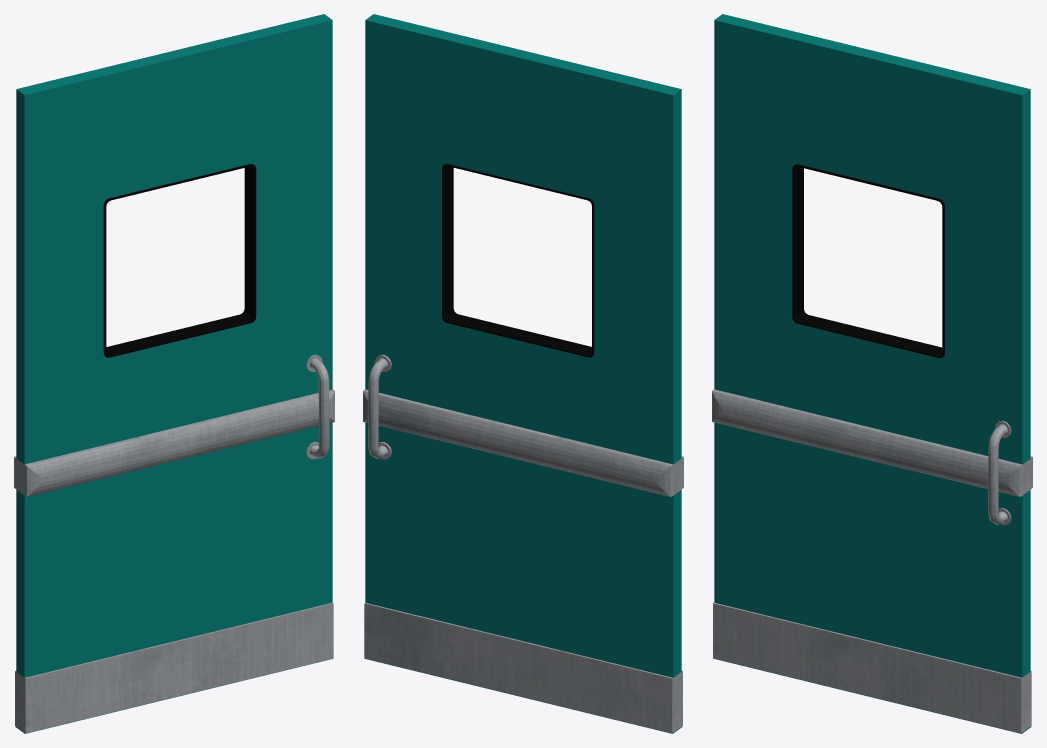
The model's file is hospitalDoor.glb.
3 views of the same model, side by side, from view 1: azimuth 30°, elevation 25°; view 2: azimuth 150°, elevation 25°; view 3: azimuth 330°, elevation 25° (orthographic).
Visible parts, largest first — view 1: HospitalDoor; view 2: HospitalDoor; view 3: HospitalDoor.
Boxes of the visible parts, box(x1,y1,x2,y2) form: HospitalDoor: box(14, 14, 334, 733); HospitalDoor: box(363, 14, 683, 733); HospitalDoor: box(712, 14, 1032, 733).
Size of the model in its own units: 1.3 by 2.56 by 0.2532.
3 materials, 3 textured.
